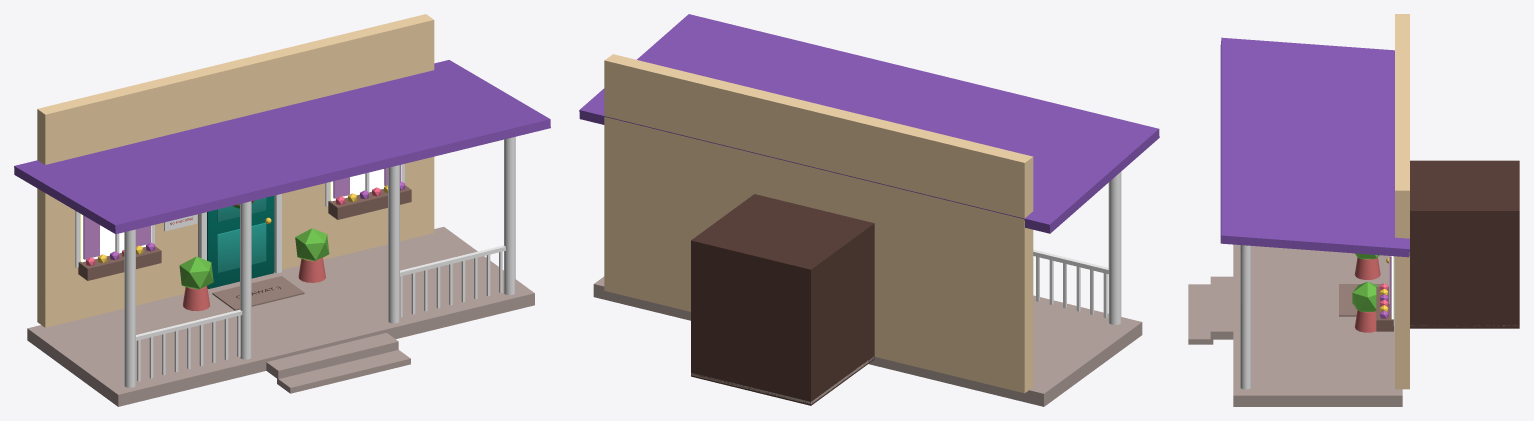
Rendered from cameos_porch.glb.
The picture shows the model from 3 angles, left to right: view 1: azimuth 30°, elevation 25°; view 2: azimuth 150°, elevation 25°; view 3: azimuth 270°, elevation 25°; orthographic projection. The views are drawn at different scales.
Visible parts, largest first — view 1: Porch_body, Door; view 2: Porch_body; view 3: Porch_body.
Boxes of the visible parts, box(x1,y1,x2,y2) form: Porch_body: box(14, 14, 550, 406); Door: box(207, 196, 274, 288); Porch_body: box(579, 14, 1159, 406); Porch_body: box(1188, 14, 1519, 406).
Size of the model in its own units: 9.4 by 4.76 by 6.65.
